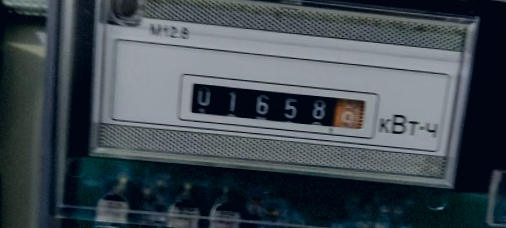0: (194, 84, 213, 106)
1: (224, 87, 239, 112)
5: (281, 94, 299, 119)
6: (252, 91, 272, 116)
8: (309, 97, 328, 120)
9: (338, 107, 355, 129)
screen: (173, 68, 383, 143)
